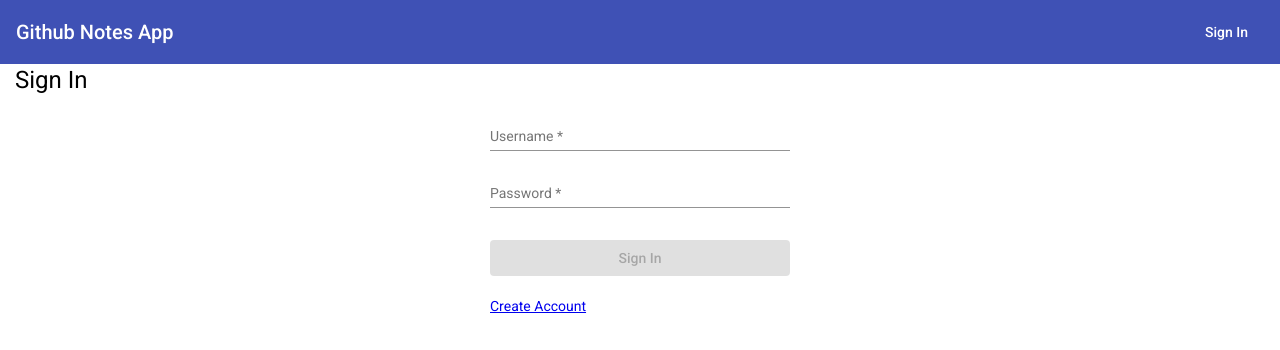
Login Page › should navigate to the registration page
This screenshot has width=1280, height=350.
Step 1. Click the link "Create Account" → (538, 306), box [490,298,586,314]
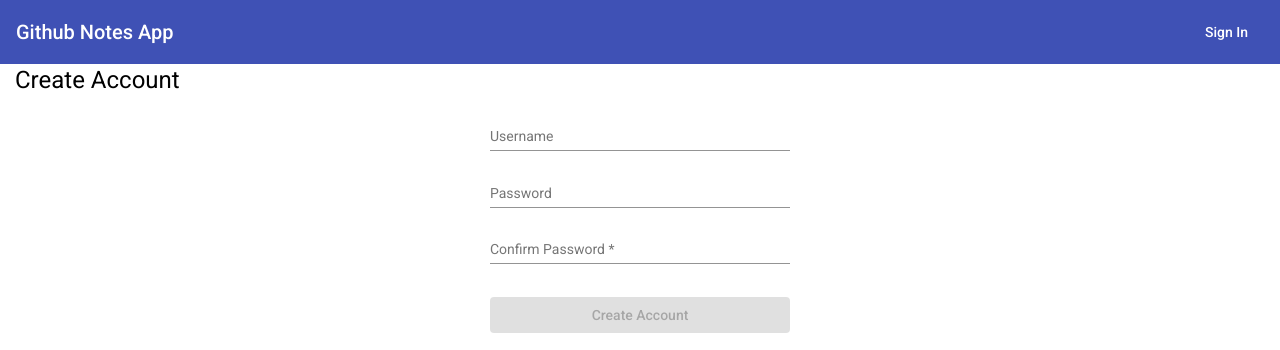
Now the heading "Create Account" is shown, box [15,66,180,94]
